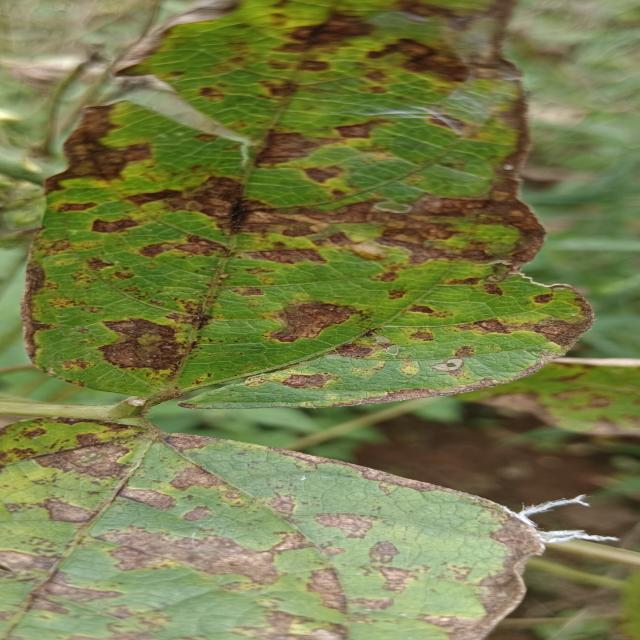Black gram_leaf spot: (0, 0, 640, 417), (1, 403, 534, 640)
